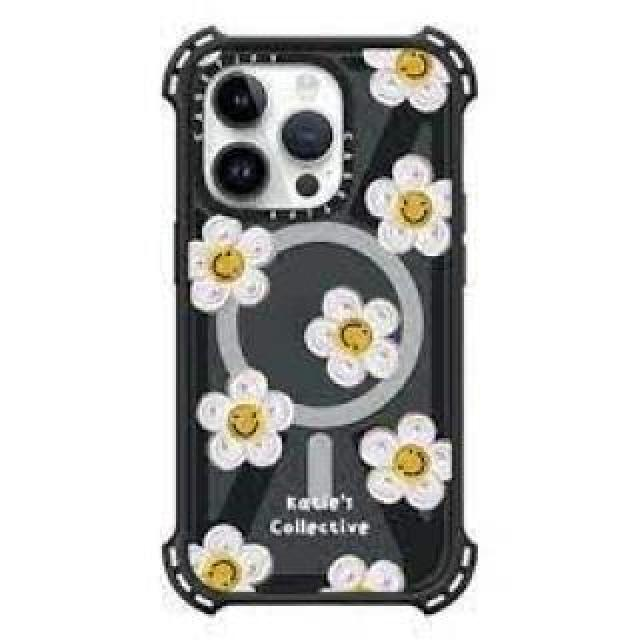smart phone: (164, 0, 474, 620)
